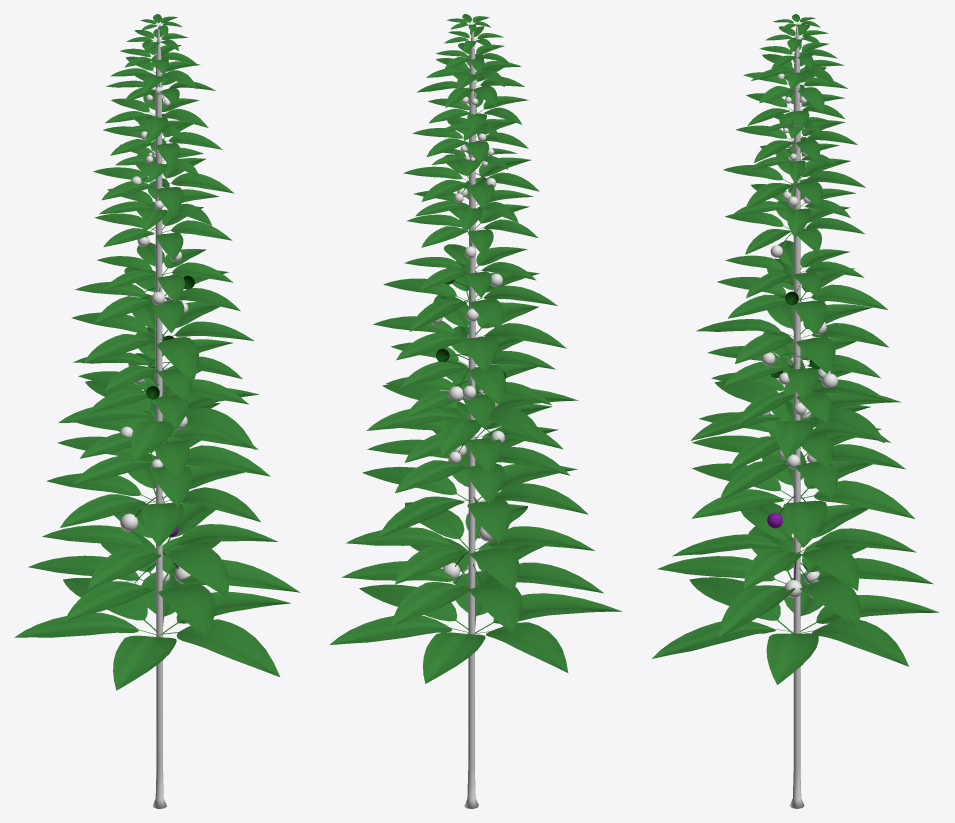
File: Kalingag.gltf
The picture shows the model from 3 angles, left to right: view 1: azimuth 30°, elevation 25°; view 2: azimuth 150°, elevation 25°; view 3: azimuth 270°, elevation 25°; orthographic projection.
Parts seen in each view (by area): view 1: kalinganleaf.002, kalinganleaf.001, kalinganleaf.021, kalinganleaf.004, kalinganleaf.029, kalinganleaf.006, kalinganleaf.005, stem, smallstem.004, smallstem.016, smallstem.010, smallstem.001 (+12 smaller); view 2: kalinganleaf.002, kalinganleaf.001, kalinganleaf.021, kalinganleaf.004, kalinganleaf.006, kalinganleaf.029, kalinganleaf.005, smallstem.004, smallstem.001, stem, smallstem.016, smallstem.010 (+12 smaller); view 3: kalinganleaf.002, kalinganleaf.001, kalinganleaf.021, kalinganleaf.004, kalinganleaf.029, kalinganleaf.006, kalinganleaf.005, smallstem.004, stem, smallstem.001, smallstem.010, smallstem.016 (+12 smaller).
Part boxes in pixels (box(x1,y1,x2,y2)): kalinganleaf.002: box(14, 572, 290, 690); kalinganleaf.001: box(28, 527, 300, 637); kalinganleaf.021: box(42, 503, 277, 597); kalinganleaf.004: box(46, 453, 262, 546); kalinganleaf.029: box(58, 369, 259, 461); kalinganleaf.006: box(72, 294, 253, 381); kalinganleaf.005: box(57, 418, 270, 507); stem: box(152, 26, 166, 808); smallstem.004: box(75, 267, 240, 332); smallstem.016: box(78, 353, 248, 429); smallstem.010: box(77, 401, 258, 479); smallstem.001: box(73, 327, 242, 401); kalinganleaf.002: box(329, 571, 622, 683); kalinganleaf.001: box(341, 537, 603, 633); kalinganleaf.021: box(346, 502, 594, 592); kalinganleaf.004: box(362, 451, 588, 543); kalinganleaf.006: box(373, 295, 566, 372); kalinganleaf.029: box(366, 381, 578, 456); kalinganleaf.005: box(367, 427, 570, 504); smallstem.004: box(383, 260, 557, 331); smallstem.001: box(391, 326, 555, 405); stem: box(464, 31, 478, 808); smallstem.016: box(386, 360, 551, 427); smallstem.010: box(400, 401, 563, 473); kalinganleaf.002: box(652, 569, 939, 684); kalinganleaf.001: box(657, 526, 933, 637); kalinganleaf.021: box(672, 503, 916, 590); kalinganleaf.004: box(691, 448, 914, 547); kalinganleaf.029: box(690, 381, 901, 458); kalinganleaf.006: box(696, 294, 888, 373); kalinganleaf.005: box(692, 419, 905, 500); smallstem.004: box(717, 258, 887, 335); stem: box(789, 24, 804, 808); smallstem.001: box(707, 331, 881, 400); smallstem.010: box(699, 391, 890, 471); smallstem.016: box(711, 356, 885, 425).
Bounding box in the file's own units: 3.99 × 12.28 × 4.1.
